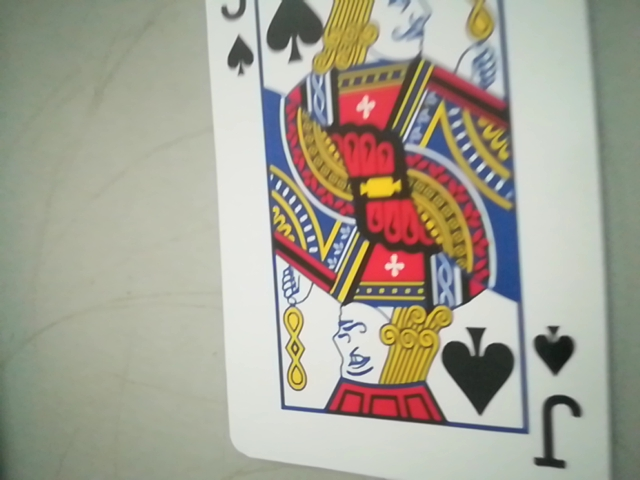ht j: (524, 310, 593, 466)
